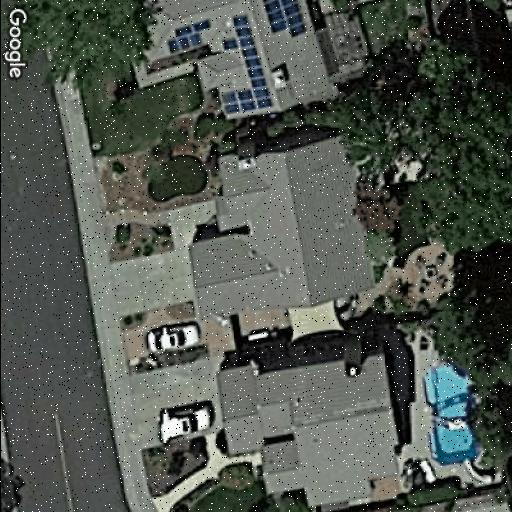solar-panel: (218, 14, 274, 114), (262, 0, 308, 41), (164, 18, 212, 52)
